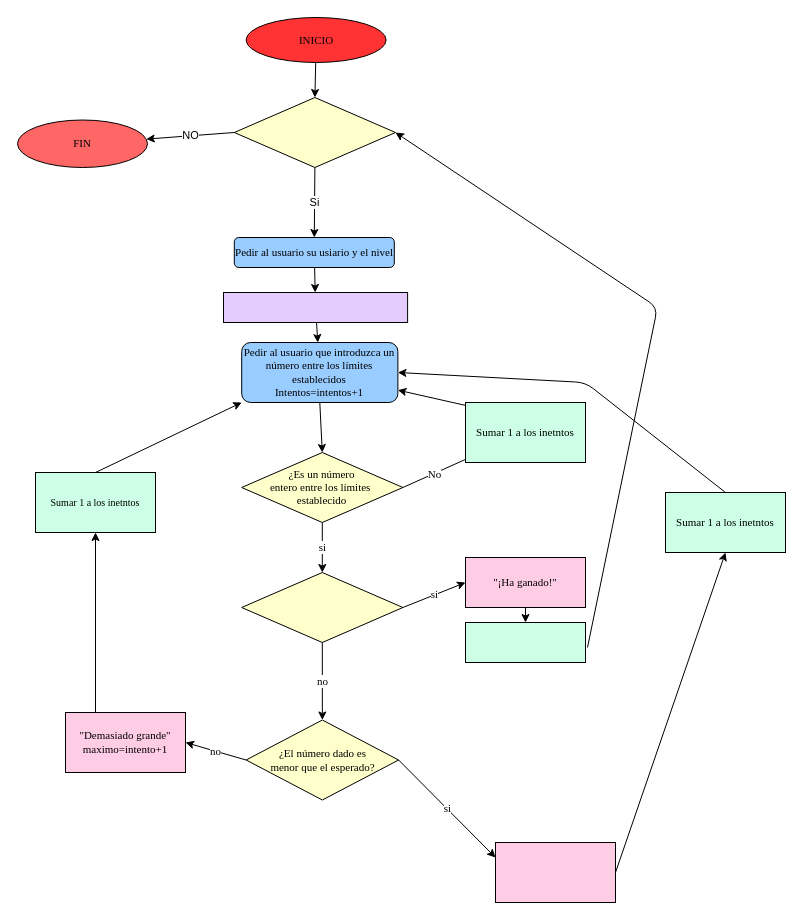
Some shapes in this 803 by 920 pixel diagram are drawn without their labels. The shapes that lost their labels are listed below. From the top down, each one's centre as x and y in pixels, then its label:
(x=314, y=132): ¿Desea jugar?
(x=315, y=307): Pedir al ordenador que genere un número Establecer Intentos=0
(x=322, y=607): ¿El número dado es el esperado?
(x=525, y=642): Contar intentos y mostrarlos
(x=555, y=872): "Demasiado pequeño" minimo=intento+1
